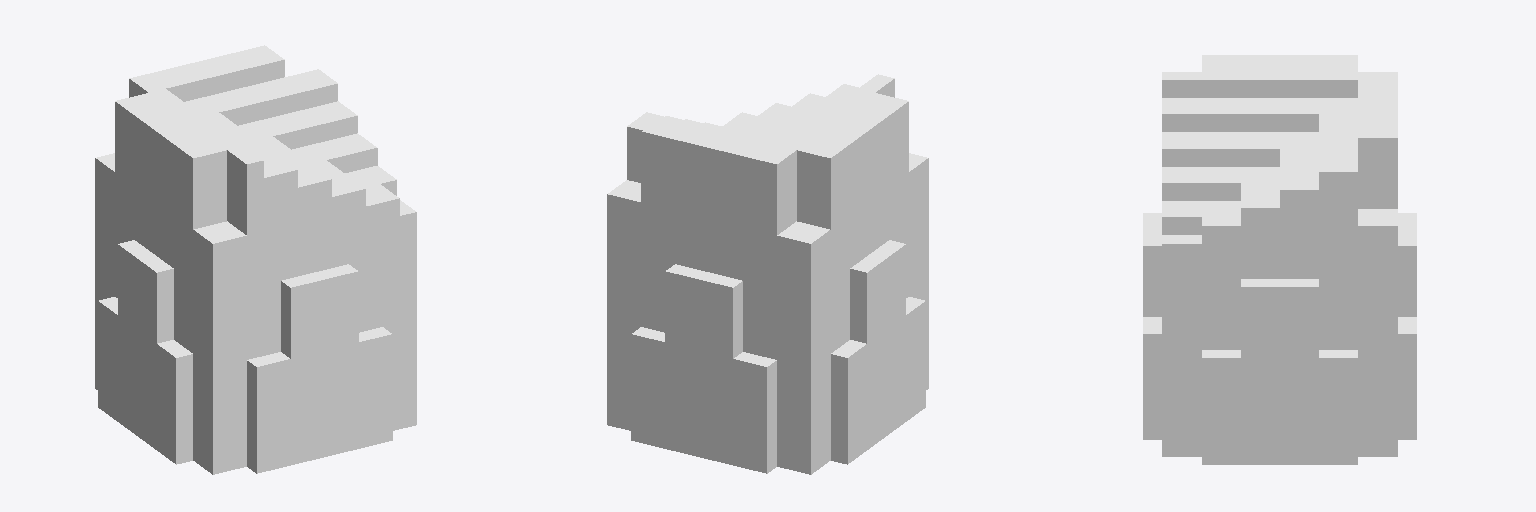
Rendered from Trunk.obj.
The picture shows the model from 3 angles: view 1: azimuth 30°, elevation 25°; view 2: azimuth 150°, elevation 25°; view 3: azimuth 270°, elevation 25°; orthographic projection.
Parts seen in each view (by area): view 1: Trunk; view 2: Trunk; view 3: Trunk.
Boxes of the visible parts, x1=… form: Trunk: x1=95, y1=45, x2=416, y2=474; Trunk: x1=607, y1=74, x2=928, y2=474; Trunk: x1=1143, y1=55, x2=1416, y2=464.
Size of the model in its own units: 14 by 17 by 14.